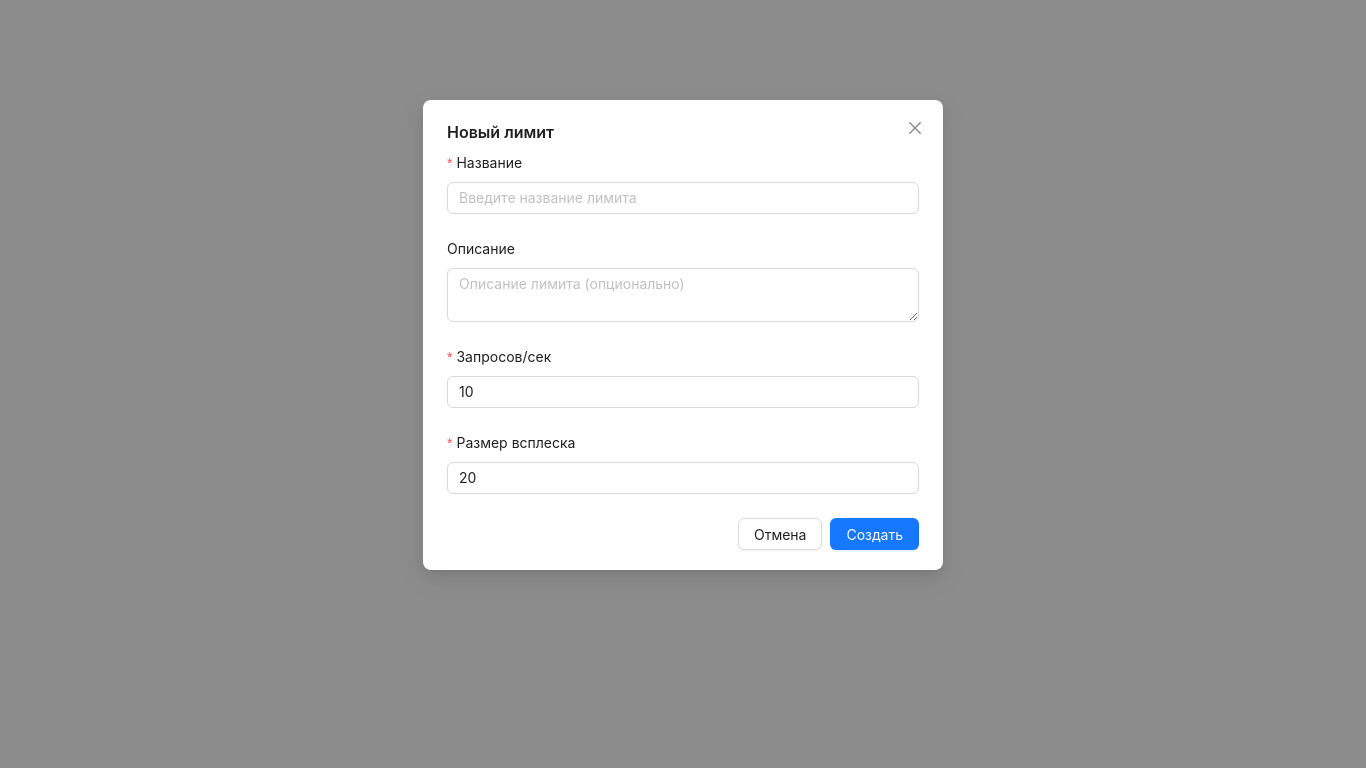
RateLimitFormModal › режим создания (AC2) › валидирует что название обязательно (AC2)
// Кликаем Создать без заполнения названия
Click the button "Создать" at coordinates (875, 534), box [830, 518, 919, 550]
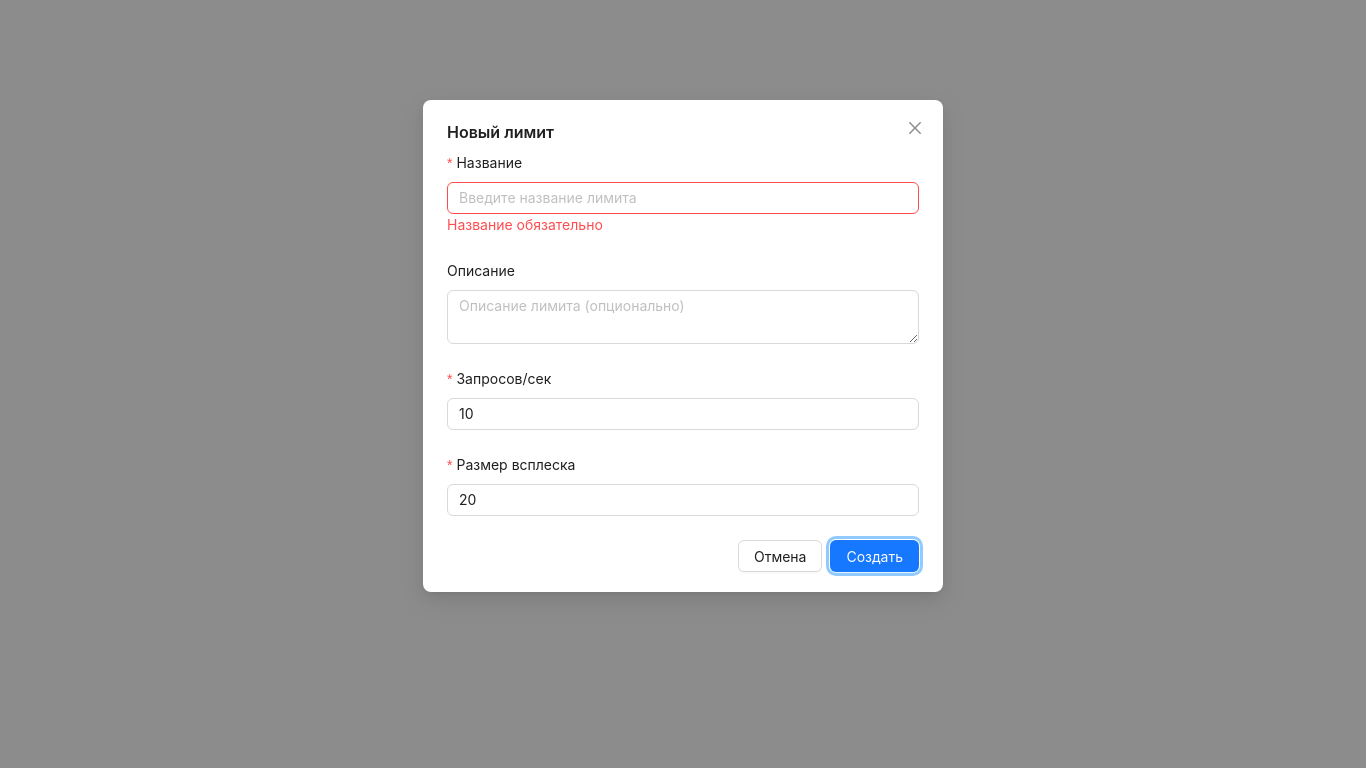
expect the text "Название обязательно" is shown: met, box [447, 216, 603, 233]
